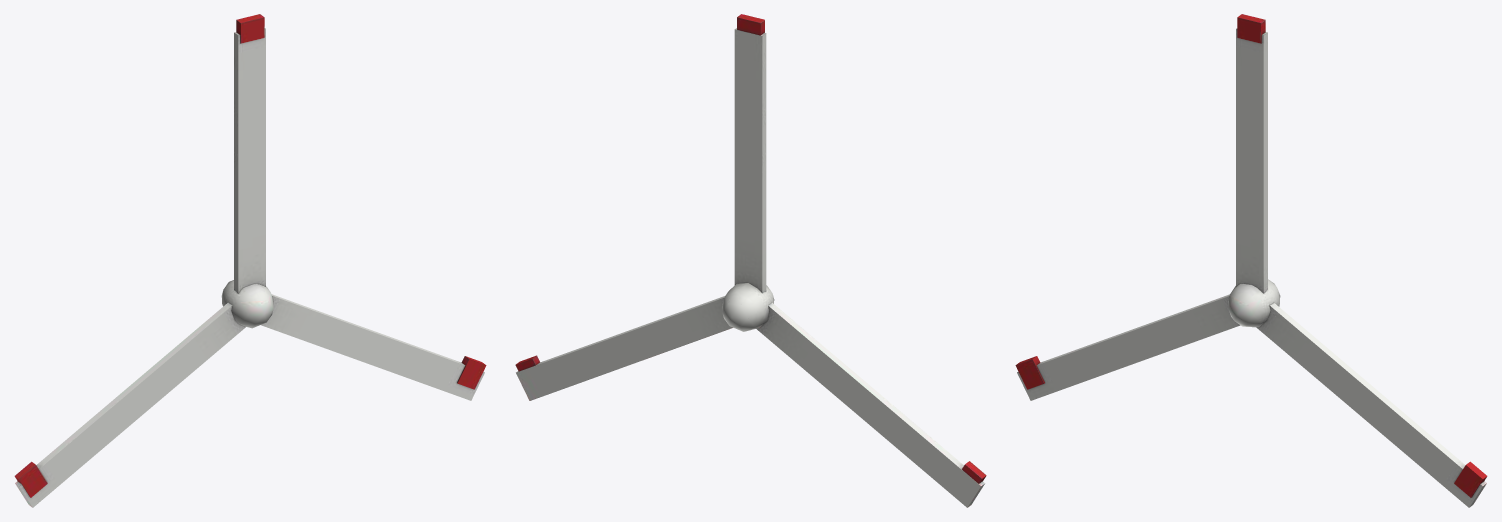
The model's file is molino_rotor.glb.
3 renders of one model, left to right at view 1: azimuth 30°, elevation 25°; view 2: azimuth 150°, elevation 25°; view 3: azimuth 330°, elevation 25°, orthographic.
Parts seen in each view (by area): view 1: molino_rotor; view 2: molino_rotor; view 3: molino_rotor.
Boxes of the visible parts, x1,y1,x2,y2 form: molino_rotor: [14, 14, 486, 507]; molino_rotor: [515, 14, 986, 507]; molino_rotor: [1015, 14, 1487, 507].
Size of the model in its own units: 11.82 by 10.5 by 1.43.
Materials: 1 (1 with a texture image).
